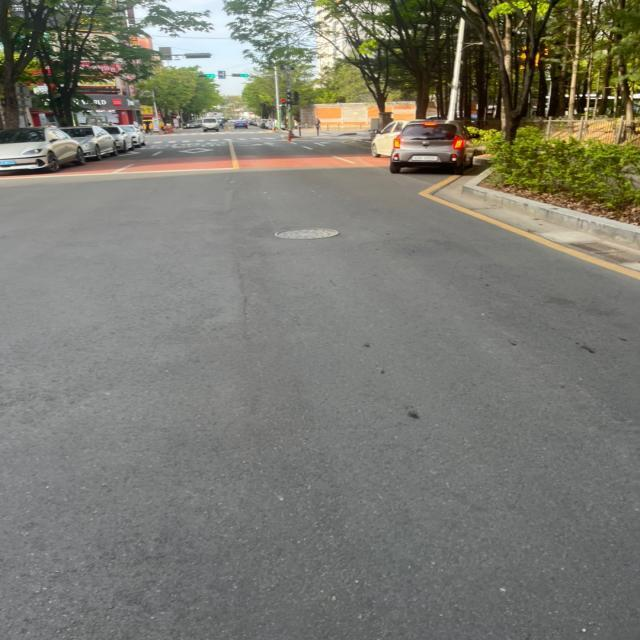manhole: (275, 228, 339, 239)
